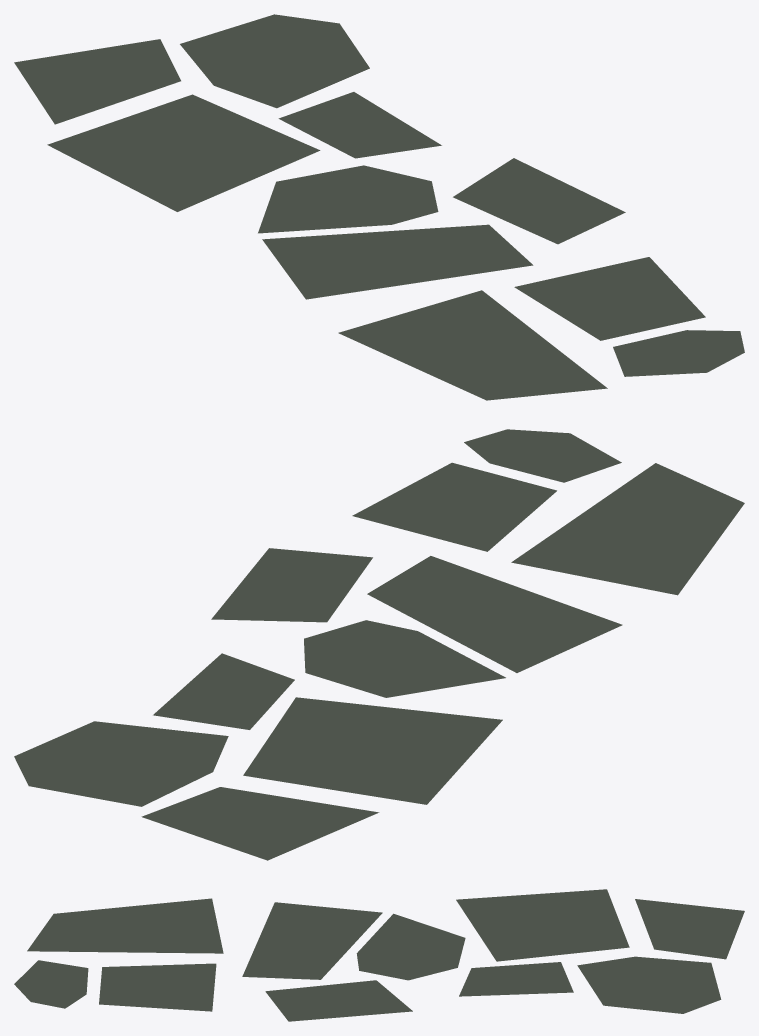
Rendered from SF_Env_Stonepath_01.glb.
3 views of the same model, one above another, from view 1: azimuth 30°, elevation 25°; view 2: azimuth 150°, elevation 25°; view 3: azimuth 270°, elevation 25° (orthographic). The views are drawn at different scales.
Visible parts, largest first — view 1: SF_Env_Stonepath_01; view 2: SF_Env_Stonepath_01; view 3: SF_Env_Stonepath_01.
Part boxes in pixels (<box>): SF_Env_Stonepath_01: <box>14,14,744,400</box>; SF_Env_Stonepath_01: <box>14,429,744,860</box>; SF_Env_Stonepath_01: <box>14,889,744,1021</box>.
Bounding box in the file's own units: 0.0337 × 5.95e-09 × 0.0787.
1 material, 1 textured.
